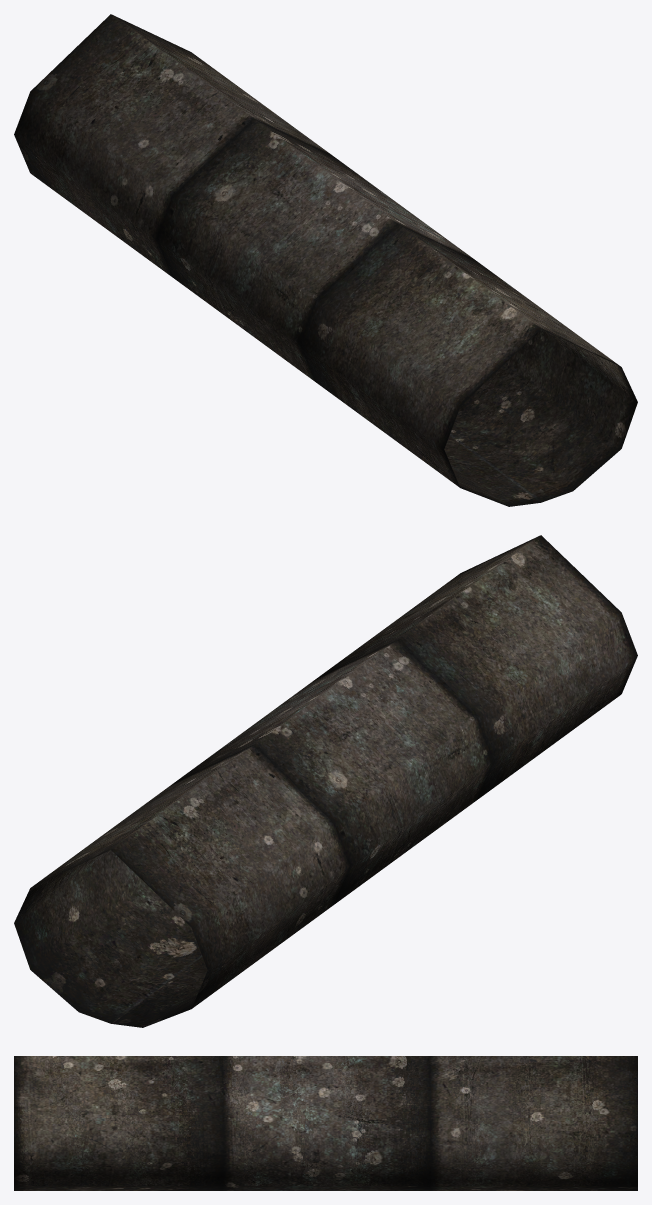
The model's file is large_straight_short.dae.
The picture shows the model from 3 angles, top to bottom: view 1: azimuth 30°, elevation 25°; view 2: azimuth 150°, elevation 25°; view 3: azimuth 270°, elevation 25°; orthographic projection. The views are drawn at different scales.
Parts seen in each view (by area): view 1: tentacle_large_straight_short; view 2: tentacle_large_straight_short; view 3: tentacle_large_straight_short.
Part boxes in pixels (left/top/right/bottom): tentacle_large_straight_short: left=14, top=14, right=637, bottom=506; tentacle_large_straight_short: left=14, top=535, right=637, bottom=1027; tentacle_large_straight_short: left=14, top=1056, right=637, bottom=1190.
Size of the model in its own units: 0.52 by 0.4458 by 2.
